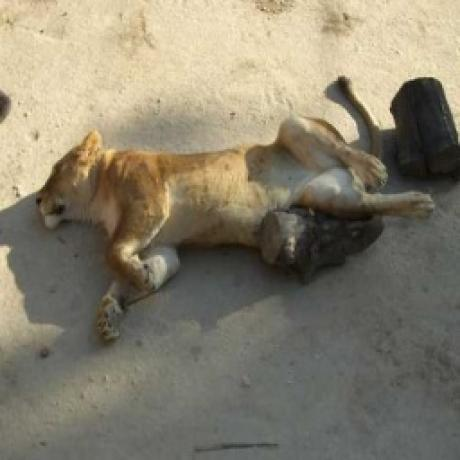Lion: (34, 73, 436, 345)
